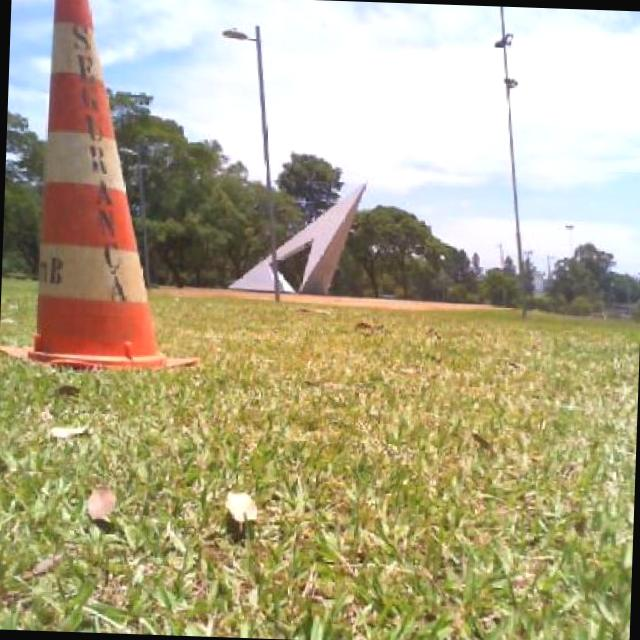Cone: (0, 0, 211, 373)
